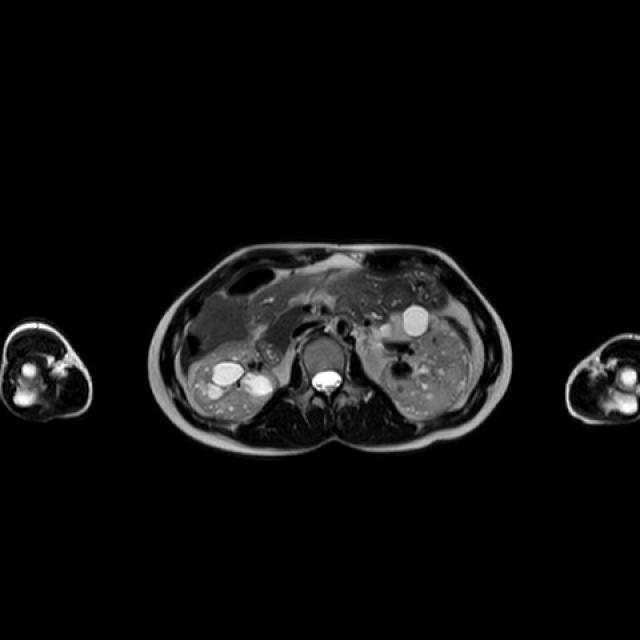sag: (189, 341, 276, 420)
sol: (353, 306, 473, 418)
